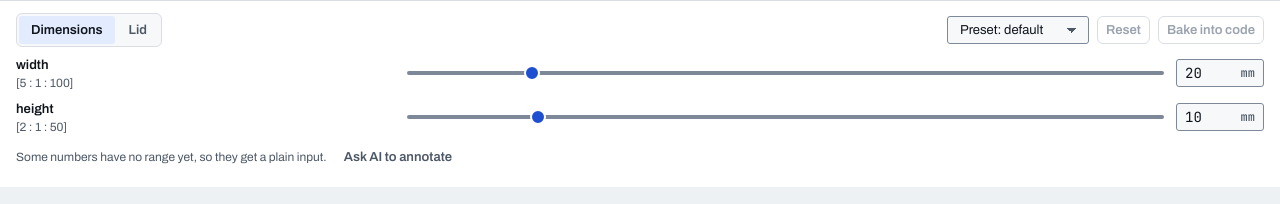
shows one tab per group and the active group parameters, never hidden ones
Expected: the element with test id "param-width" is shown, [16,55,1264,91]
Click the tab "Lid" at (138, 30), box [116,16,159,44]
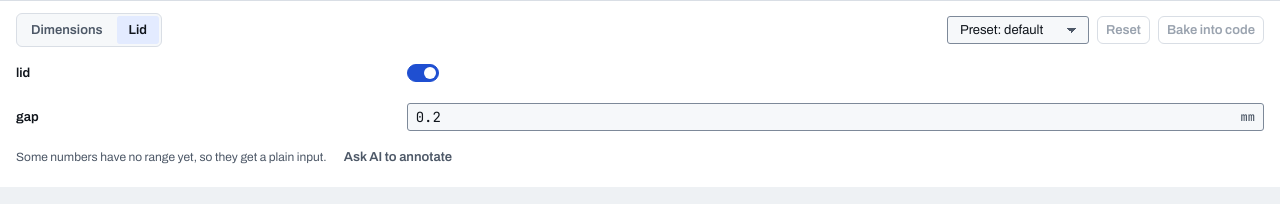
Expected: the element with test id "param-lid" is shown, [16,64,439,82]
